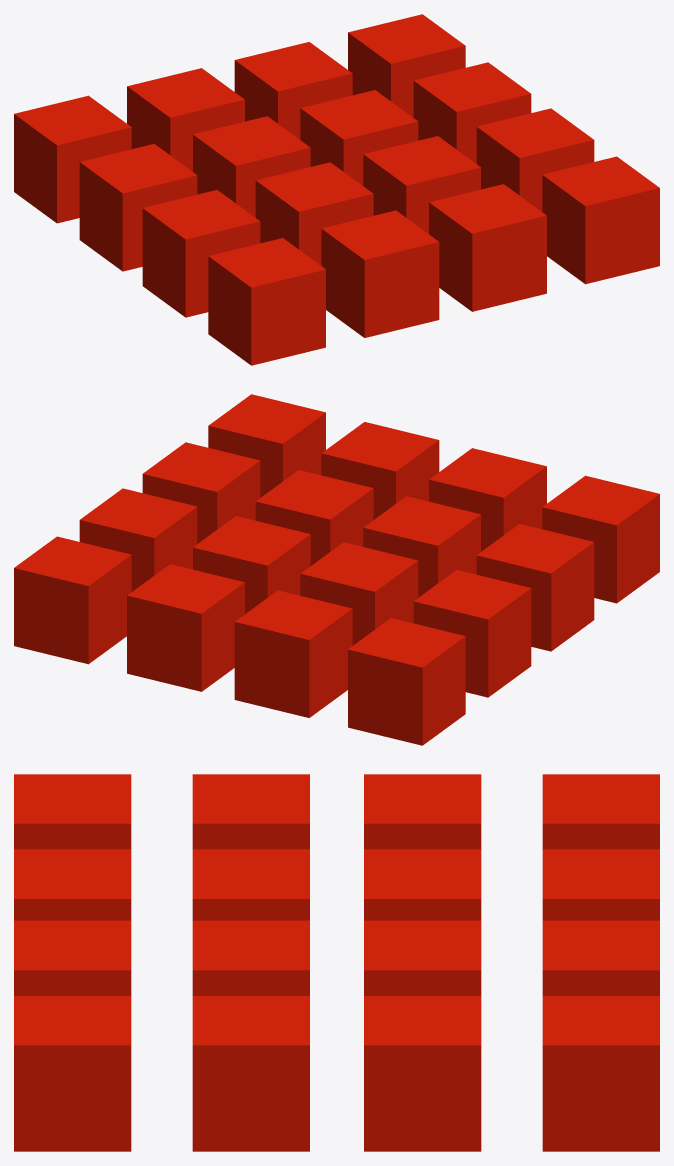
File: bouncing-cubes.glb
The picture shows the model from 3 angles, top to bottom: view 1: azimuth 30°, elevation 25°; view 2: azimuth 150°, elevation 25°; view 3: azimuth 270°, elevation 25°; orthographic projection. The views are drawn at different scales.
Visible parts, largest first — view 1: Cube.003, Cube.007, Cube.015, Cube.011, Cube.002, Cube, Cube.001, Cube.006, Cube.014, Cube.004, Cube.012, Cube.013 (+4 smaller); view 2: Cube, Cube.004, Cube.012, Cube.008, Cube.001, Cube.003, Cube.002, Cube.005, Cube.013, Cube.007, Cube.015, Cube.014 (+4 smaller); view 3: Cube.012, Cube.013, Cube.014, Cube.015, Cube, Cube.001, Cube.002, Cube.003, Cube.008, Cube.009, Cube.010, Cube.011 (+4 smaller).
Part boxes in pixels (x1,y1,x2,y2): Cube.003: [208, 238, 325, 365]; Cube.007: [321, 210, 439, 337]; Cube.015: [542, 156, 659, 284]; Cube.011: [429, 184, 546, 311]; Cube.002: [142, 190, 260, 317]; Cube: [14, 95, 131, 223]; Cube.001: [79, 144, 197, 271]; Cube.006: [255, 162, 373, 265]; Cube.014: [476, 108, 594, 211]; Cube.004: [127, 68, 244, 171]; Cube.012: [348, 14, 465, 117]; Cube.013: [413, 62, 531, 163]; Cube: [348, 618, 465, 745]; Cube.004: [234, 590, 352, 717]; Cube.012: [14, 536, 131, 664]; Cube.008: [127, 564, 244, 691]; Cube.001: [413, 570, 531, 697]; Cube.003: [542, 475, 659, 603]; Cube.002: [476, 524, 594, 651]; Cube.005: [300, 542, 418, 645]; Cube.013: [79, 488, 197, 591]; Cube.007: [429, 448, 546, 551]; Cube.015: [208, 394, 325, 497]; Cube.014: [142, 442, 260, 543]; Cube.012: [542, 996, 659, 1151]; Cube.013: [364, 996, 481, 1151]; Cube.014: [192, 996, 309, 1151]; Cube.015: [14, 996, 131, 1151]; Cube: [542, 774, 659, 849]; Cube.001: [364, 774, 481, 849]; Cube.002: [192, 774, 309, 849]; Cube.003: [14, 774, 131, 849]; Cube.008: [542, 920, 659, 995]; Cube.009: [364, 920, 481, 995]; Cube.010: [192, 920, 309, 995]; Cube.011: [14, 920, 131, 995].
Bounding box in the file's own units: 4.13 × 0.7536 × 4.15.
